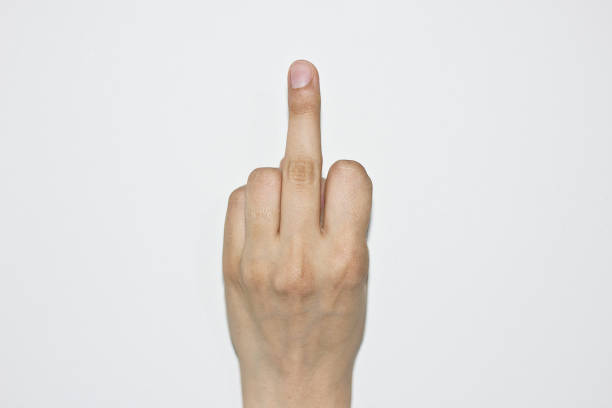insulting_gesture: (219, 53, 375, 408)
